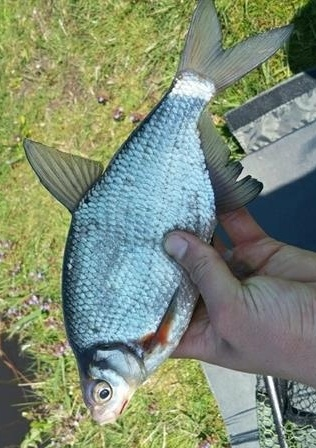Blicca bjoerkna: (20, 1, 296, 428)
